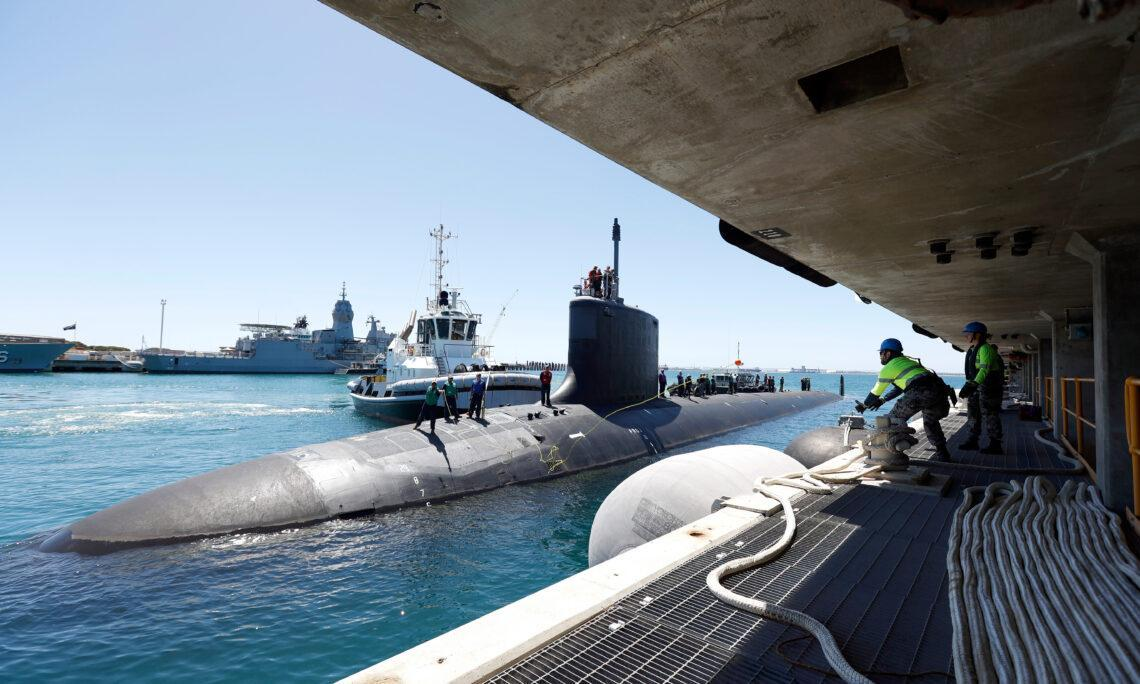Submarine: (3, 192, 857, 617)
